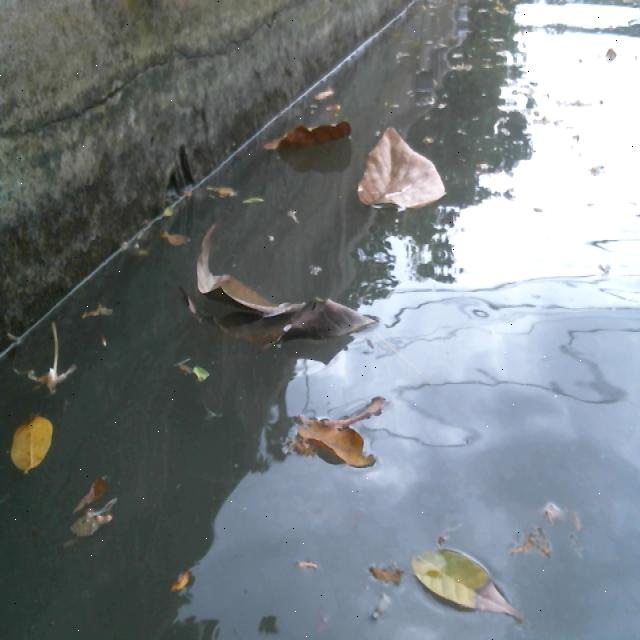Big-leaf: (192, 228, 393, 356), (285, 377, 388, 504), (355, 115, 448, 224), (246, 118, 363, 167)
Small-leaf: (421, 545, 526, 619), (62, 446, 118, 558), (8, 413, 55, 474), (165, 344, 214, 397), (158, 562, 193, 612), (297, 78, 342, 107), (238, 189, 275, 219), (157, 218, 189, 248), (365, 553, 400, 578), (202, 184, 242, 203)
